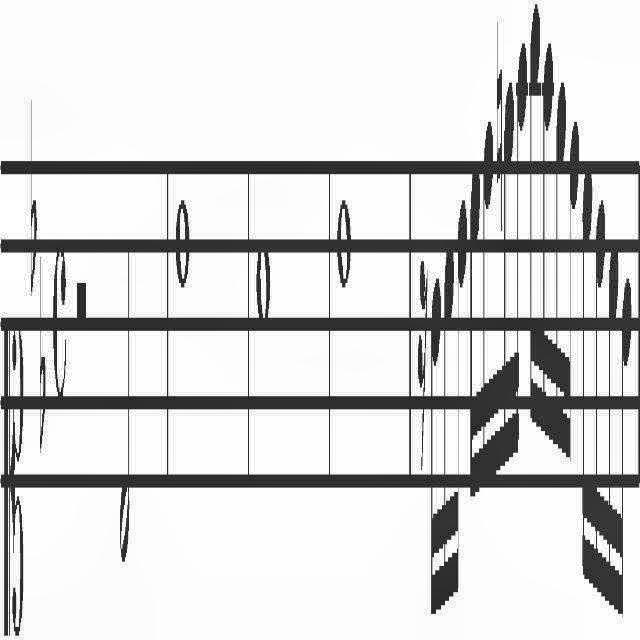Bemol: (24, 41, 36, 320), (38, 231, 46, 464)
Full-note: (334, 142, 358, 416), (253, 192, 271, 374), (174, 160, 190, 348)
Half-note: (115, 224, 133, 612)
Sixteenth-note: (480, 113, 496, 507), (593, 184, 607, 616), (580, 122, 592, 600), (515, 21, 527, 466), (528, 1, 540, 443), (608, 210, 620, 636), (503, 56, 515, 478), (442, 220, 454, 640), (555, 64, 567, 483), (455, 198, 467, 598), (620, 241, 632, 631), (430, 262, 442, 640), (542, 12, 552, 464), (468, 145, 479, 520), (569, 96, 579, 480)
